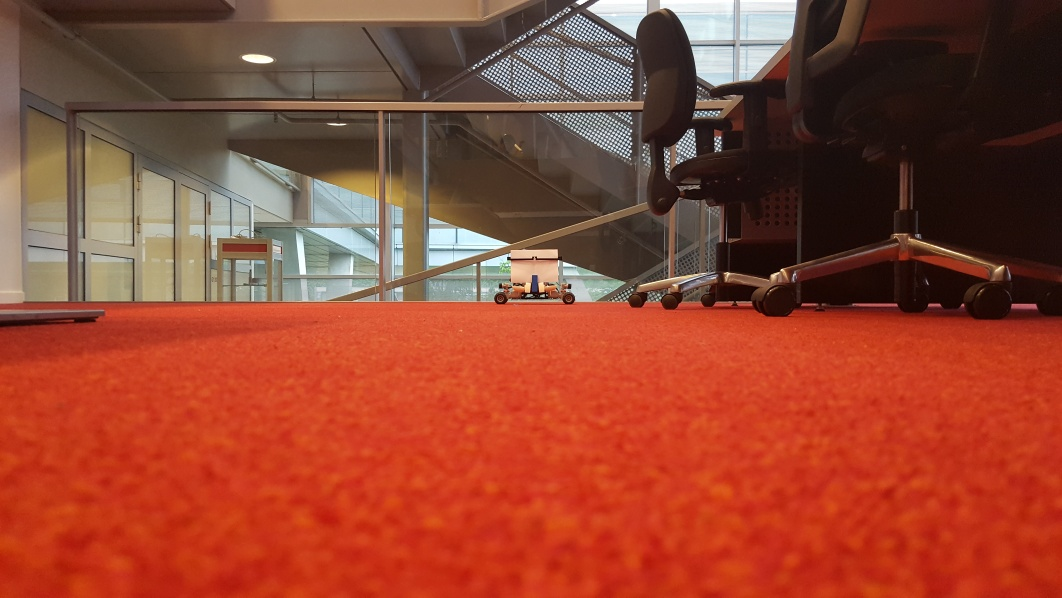car: (495, 248, 575, 307)
